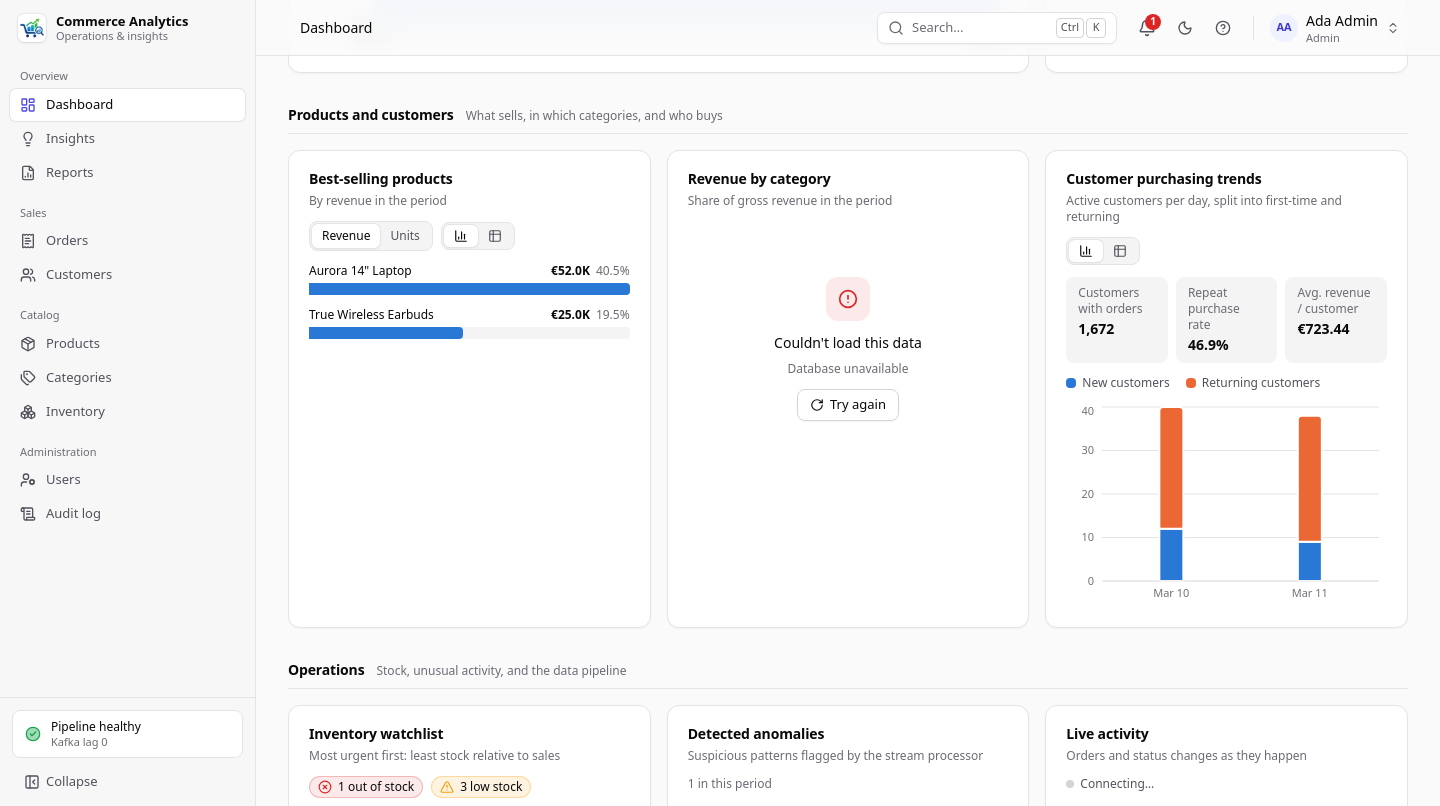
Scenario: dashboard › isolates a failing panel and recovers on retry
The image size is (1440, 806).
(page scrolled)
Expected: the text "Database unavailable" is shown, [788,361,908,377]
Expected: the text "Aurora 14\" Laptop" is shown, [309,263,412,279]
Click the button "Try again".
click(848, 405)  # box [797,389,899,421]
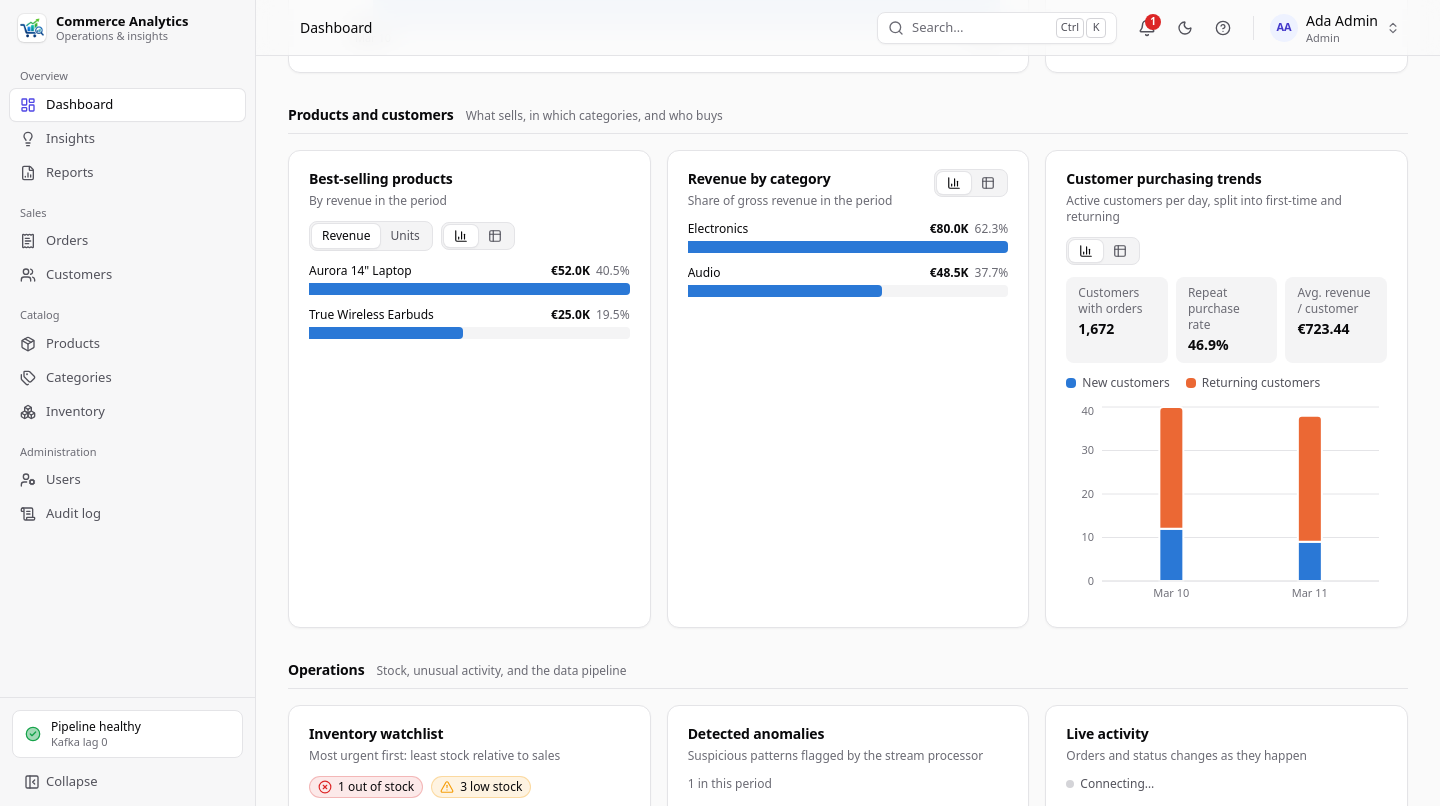
Expected: the text "Electronics" is shown, [688,221,748,237]
